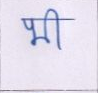i_matra: (47, 8, 67, 50)
